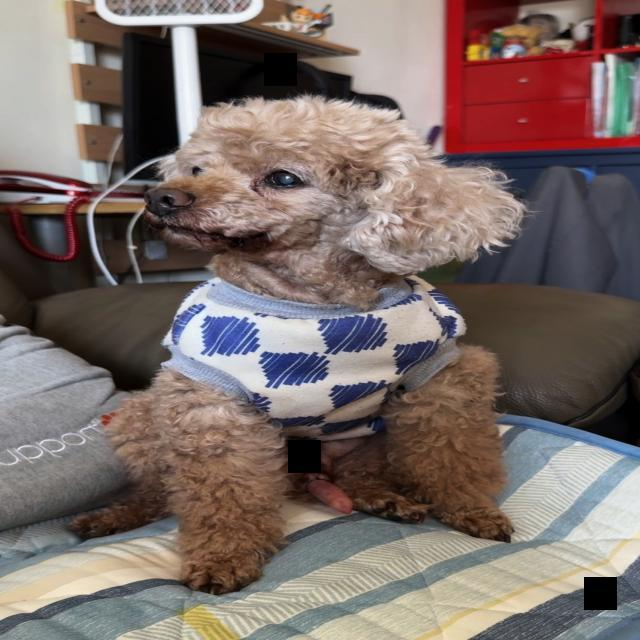adult_dog: (66, 87, 529, 598)
